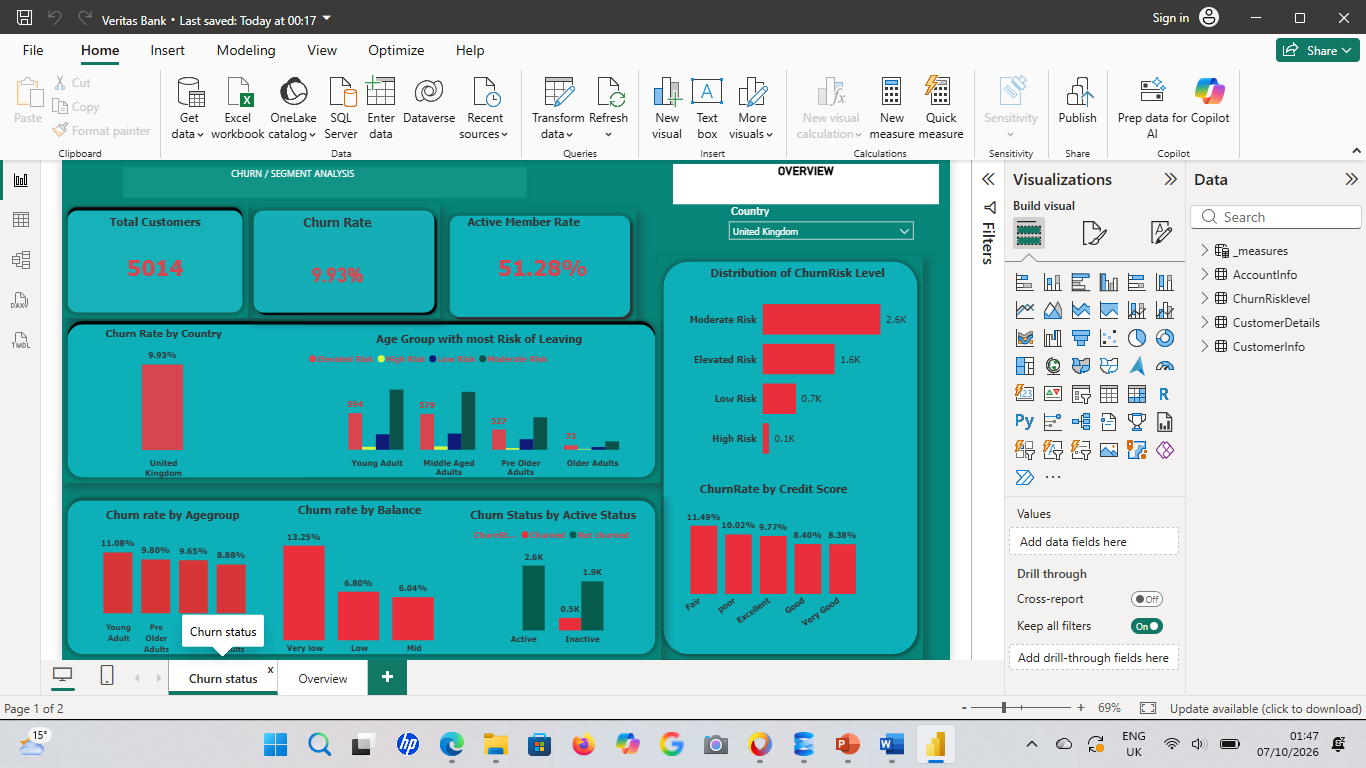

What the dashboard file says about the page in this screenshot:
{"tool":"powerbi","page":{"name":"Churn status","canvas":[1280,720],"ordinal":0},"visuals":[{"type":"shape","box":[0,64.8,267.8,162.7],"z":0},{"type":"shape","box":[77.1,0,601.4,64.3],"z":1000},{"type":"shape","box":[550,71.4,276,162],"z":2000},{"type":"shape","box":[0,229,862.1,235.9],"z":3000},{"type":"shape","box":[267.8,64.8,276.5,162.7],"z":4000},{"type":"shape","box":[858.6,138.6,381.4,581.4],"z":5000},{"type":"shape","box":[0,482.8,862.1,237.2],"z":6000},{"type":"card","title":"Total Customers","fields":{"Values":["_measures.Total customers"]},"box":[11.4,78.6,245.7,132.9],"z":7000},{"type":"card","title":"Churn Rate","fields":{"Values":["_measures.Churn rate"]},"box":[282.9,78.6,228.6,148.6],"z":8000},{"type":"card","title":"Active Member Rate","fields":{"Values":["_measures.Active memeber rate"]},"box":[578.6,78.6,227.1,132.9],"z":9000},{"type":"clusteredColumnChart","title":"Churn Rate by Country","fields":{"Category":["CustomerInfo.Country"],"Y":["_measures.Churn rate"]},"box":[0,240,292.9,224.3],"z":10000},{"type":"clusteredColumnChart","title":"Age Group with most Risk of Leaving","fields":{"Category":["ChurnRisklevel.AgeGroup"],"Series":["ChurnRisklevel.ChurnRisk"],"Y":["_measures.Total customers"]},"box":[350.3,248.3,502.1,216.6],"z":11000},{"type":"clusteredColumnChart","title":"Churn rate by Balance","fields":{"Category":["ChurnRisklevel.BalanceCat"],"Y":["_measures.Churn rate"]},"box":[282.9,494.3,292.9,225.7],"z":12000},{"type":"clusteredColumnChart","fields":{"Category":["CustomerInfo.Agegroup"],"Y":["_measures.Churn rate"]},"box":[25.7,501.4,267.1,218.6],"z":13000},{"type":"clusteredColumnChart","title":"Churn Status by Active Status","fields":{"Category":["AccountInfo.ActiveStatus"],"Series":["ChurnRisklevel.ChurnStatus"],"Y":["_measures.Total customers"]},"box":[550,501.4,314.3,204.3],"z":14000},{"type":"clusteredBarChart","title":"Distribution of ChurnRisk Level","fields":{"Category":["ChurnRisklevel.ChurnRisk"],"Y":["_measures.Total customers"]},"box":[897.1,152.9,324.3,300],"z":15000},{"type":"clusteredColumnChart","title":"ChurnRate by Credit Score","fields":{"Category":["AccountInfo.CreditScorecat"],"Y":["_measures.Churn rate"]},"box":[880,464.3,292.9,227.1],"z":16000},{"type":"slicer","fields":{"Values":["CustomerInfo.Country"]},"box":[950,57.1,285.7,64.3],"z":17000},{"type":"textbox","box":[107.1,5.7,451.4,58.6],"z":18000},{"type":"pageNavigator","title":"OVERVIEW","box":[879.8,5.8,383,57.6],"z":19000}]}

Visuals, with their boxes on the page's 1280x720 design canvas (x1, y1, x2, y2). These are canvas units, not pixel positions in the 1366x768 screenshot, which may show the page scaled, cropped or inside an application window:
shape: (left=0, top=65, right=268, bottom=228)
shape: (left=77, top=0, right=678, bottom=64)
shape: (left=550, top=71, right=826, bottom=233)
shape: (left=0, top=229, right=862, bottom=465)
shape: (left=268, top=65, right=544, bottom=228)
shape: (left=859, top=139, right=1240, bottom=720)
shape: (left=0, top=483, right=862, bottom=720)
"Total Customers" card: (left=11, top=79, right=257, bottom=212)
"Churn Rate" card: (left=283, top=79, right=512, bottom=227)
"Active Member Rate" card: (left=579, top=79, right=806, bottom=212)
"Churn Rate by Country" clusteredColumnChart: (left=0, top=240, right=293, bottom=464)
"Age Group with most Risk of Leaving" clusteredColumnChart: (left=350, top=248, right=852, bottom=465)
"Churn rate by Balance" clusteredColumnChart: (left=283, top=494, right=576, bottom=720)
clusteredColumnChart - CustomerInfo.Agegroup x _measures.Churn rate: (left=26, top=501, right=293, bottom=720)
"Churn Status by Active Status" clusteredColumnChart: (left=550, top=501, right=864, bottom=706)
"Distribution of ChurnRisk Level" clusteredBarChart: (left=897, top=153, right=1221, bottom=453)
"ChurnRate by Credit Score" clusteredColumnChart: (left=880, top=464, right=1173, bottom=691)
slicer - CustomerInfo.Country: (left=950, top=57, right=1236, bottom=121)
textbox: (left=107, top=6, right=558, bottom=64)
"OVERVIEW" pageNavigator: (left=880, top=6, right=1263, bottom=63)
